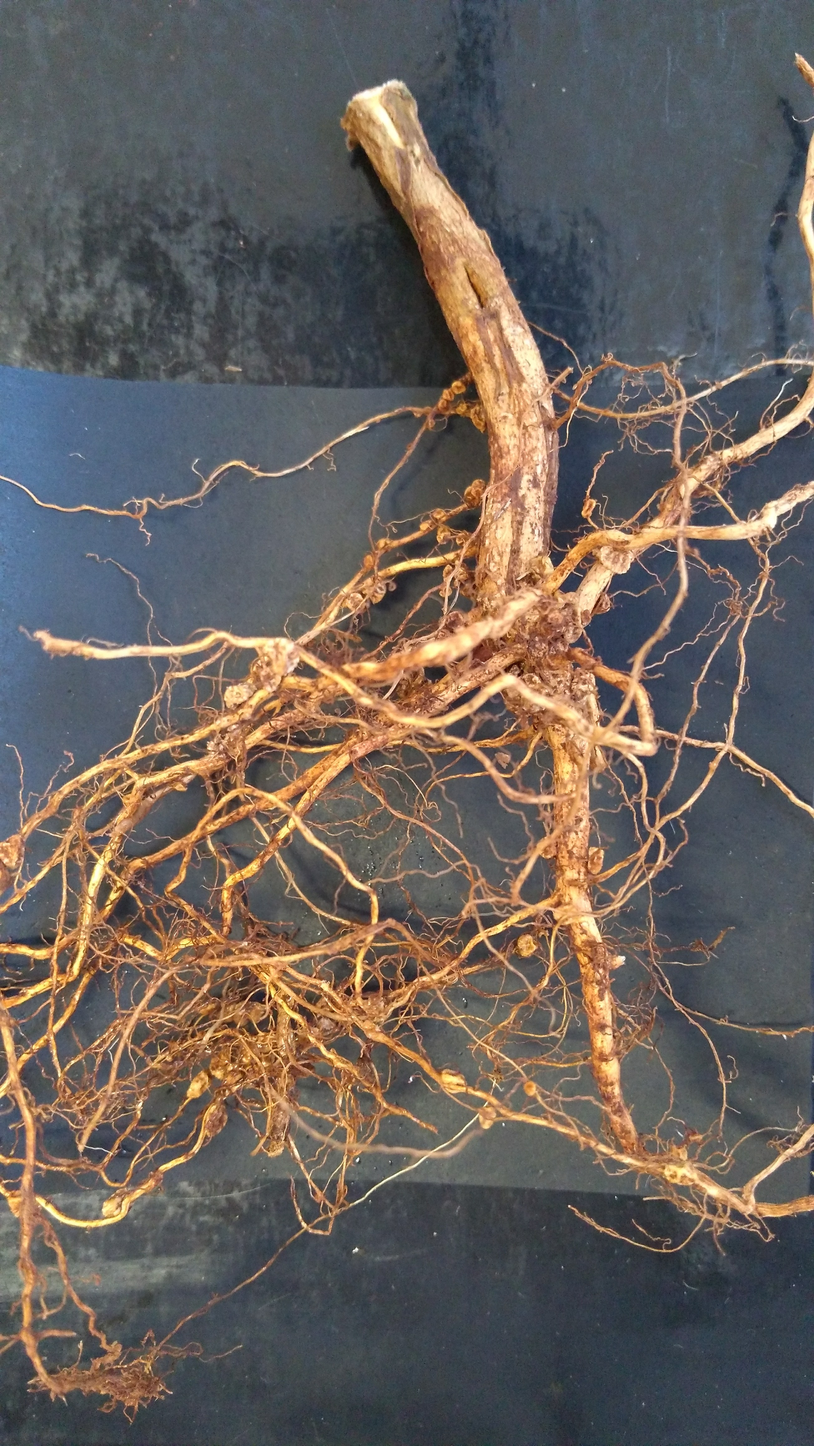nodule: (546, 589, 585, 643), (258, 634, 305, 677), (503, 671, 547, 712), (249, 654, 284, 692), (199, 1098, 230, 1139), (0, 831, 28, 872), (596, 545, 634, 575), (223, 677, 257, 710), (437, 1065, 469, 1099), (569, 665, 597, 703), (542, 661, 572, 695), (185, 1066, 212, 1101), (314, 993, 339, 1030), (663, 1163, 697, 1187), (514, 931, 540, 962), (102, 1187, 128, 1218), (474, 1103, 500, 1133), (208, 1048, 231, 1081), (360, 578, 389, 604), (536, 834, 559, 863), (551, 903, 580, 926), (469, 401, 489, 434), (437, 563, 456, 597), (233, 999, 253, 1029), (586, 845, 605, 875), (240, 1039, 262, 1064), (345, 591, 368, 614), (530, 555, 554, 577), (442, 608, 467, 629), (592, 592, 613, 615), (217, 1000, 238, 1023), (579, 497, 599, 521), (454, 531, 479, 549), (520, 1078, 538, 1100), (246, 1002, 263, 1025), (121, 793, 139, 814), (170, 780, 195, 795), (463, 485, 480, 507), (435, 524, 453, 544), (454, 562, 472, 581), (223, 1069, 243, 1086), (454, 400, 470, 421), (450, 379, 469, 396), (375, 536, 394, 553), (671, 1144, 688, 1161), (268, 963, 285, 979), (431, 508, 450, 522), (471, 477, 487, 493), (579, 608, 592, 627), (440, 387, 457, 401), (363, 553, 377, 570), (417, 518, 433, 531), (436, 398, 450, 411)
